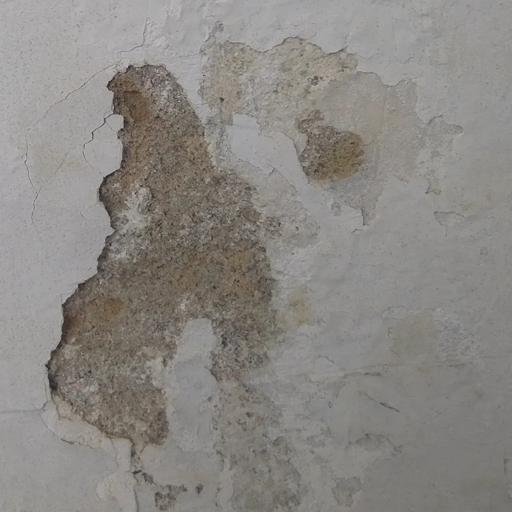peeling: (35, 42, 338, 460), (194, 8, 496, 242), (100, 365, 408, 512)
